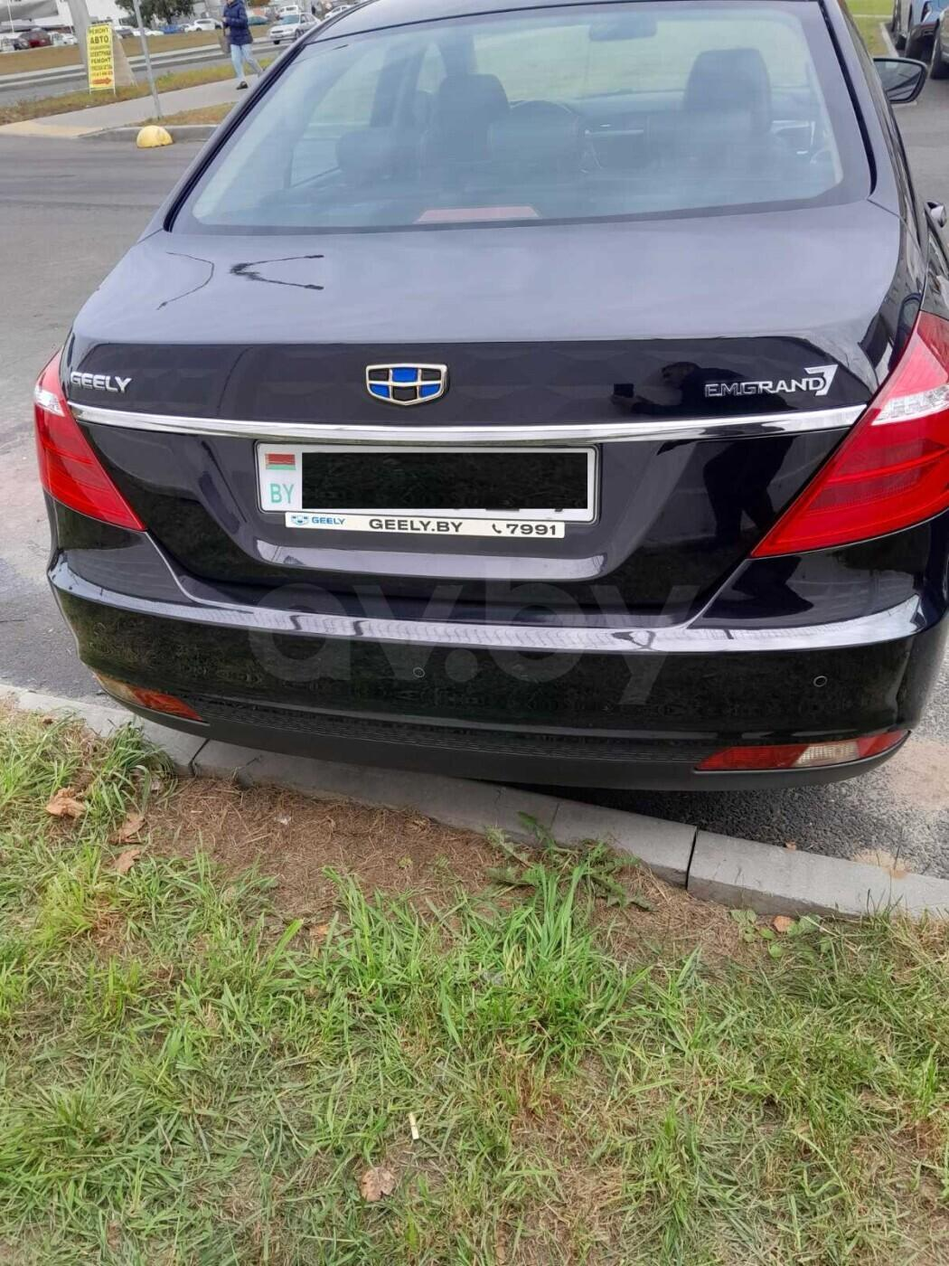Emgrand_2019-2021: (33, 0, 948, 789)
